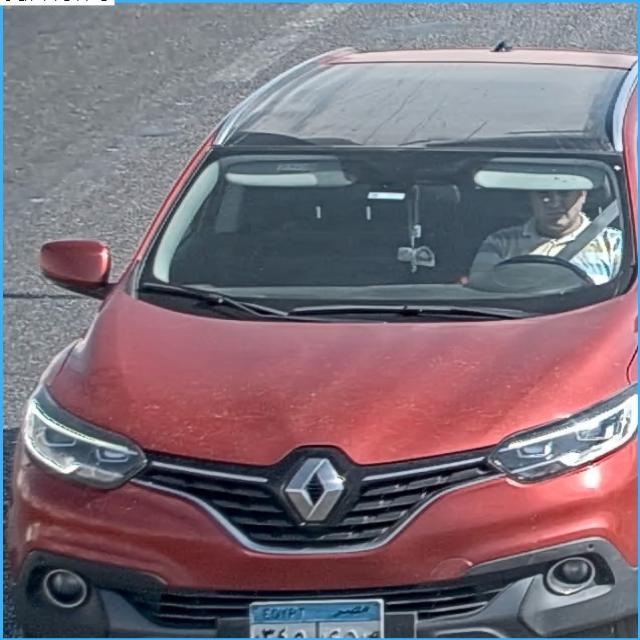windshield: (146, 149, 629, 304)
